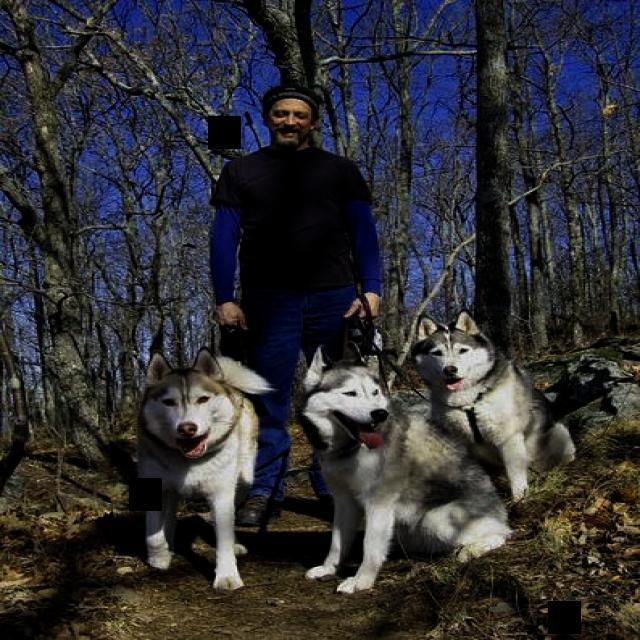adult_dog: (301, 344, 512, 593), (139, 346, 280, 590), (414, 312, 577, 505)
non-dog: (208, 81, 384, 531)
